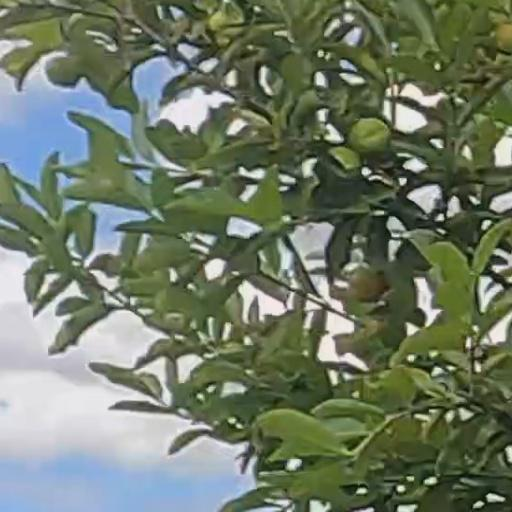acerola_verde: (353, 120, 393, 154)
